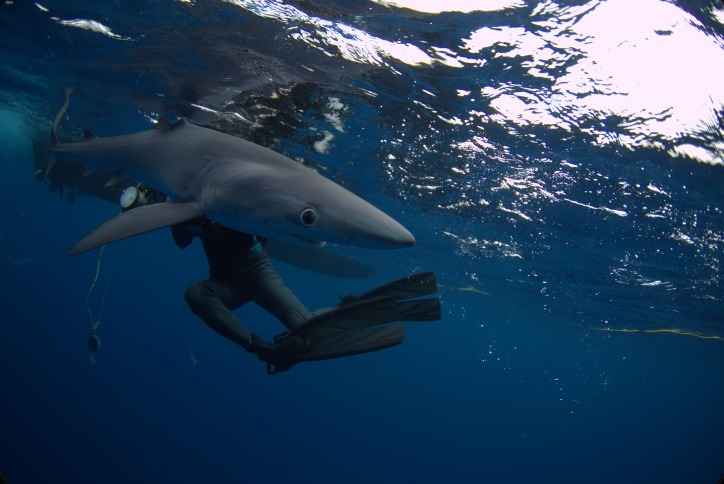Azul: (1, 89, 436, 267)
